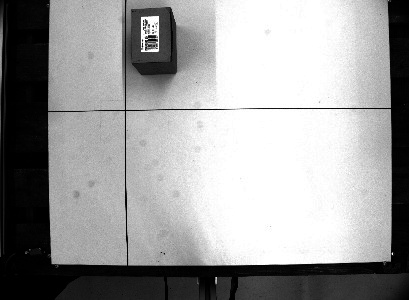b5: (127, 4, 179, 76)
